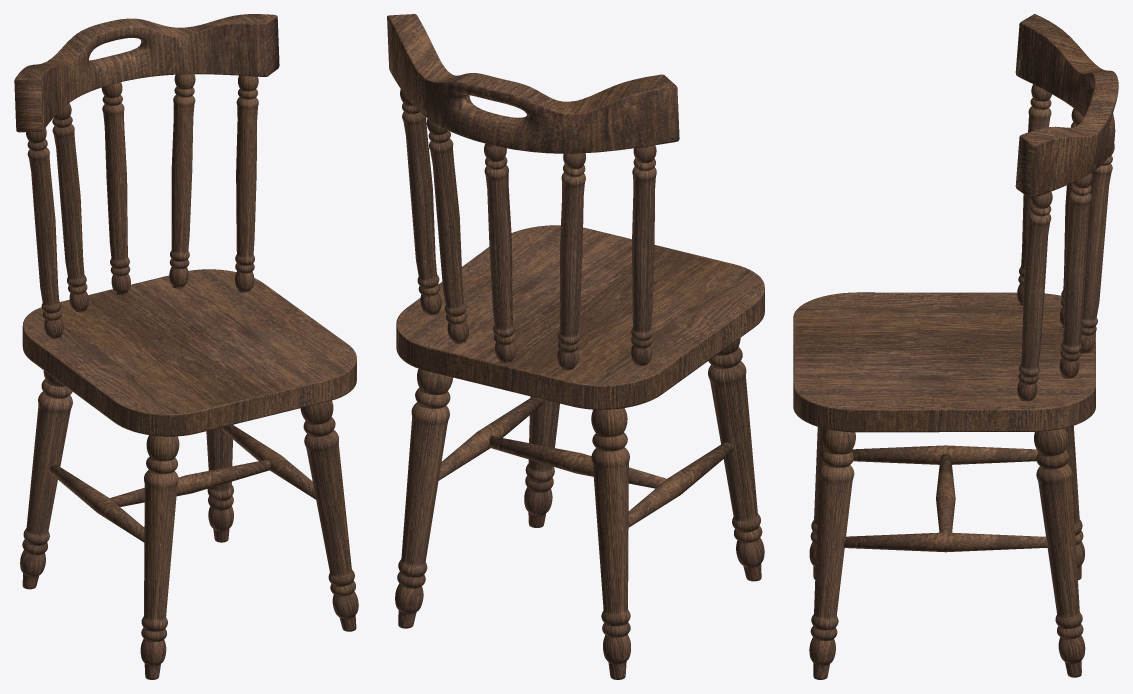
File: chair1.fbx
The picture shows the model from 3 angles, left to right: view 1: azimuth 30°, elevation 25°; view 2: azimuth 150°, elevation 25°; view 3: azimuth 270°, elevation 25°; orthographic projection. The views are drawn at different scales.
Parts seen in each view (by area): view 1: Chair_Seat_Plane.003; view 2: Chair_Seat_Plane.003; view 3: Chair_Seat_Plane.003.
Boxes of the visible parts, box(x1,y1,x2,y2) form: Chair_Seat_Plane.003: box(14, 14, 358, 679); Chair_Seat_Plane.003: box(387, 14, 764, 679); Chair_Seat_Plane.003: box(793, 14, 1118, 679).
Size of the model in its own units: 47.14 by 90.93 by 48.89.
